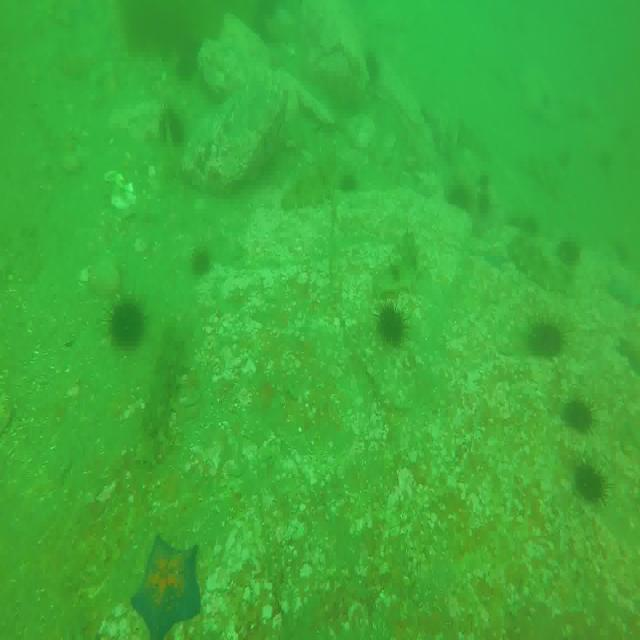echinus: (109, 301, 149, 348), (377, 300, 407, 349), (531, 319, 566, 356), (448, 179, 475, 223), (575, 466, 607, 502), (564, 396, 594, 431), (158, 105, 184, 145), (557, 237, 583, 266), (193, 245, 212, 278)
holothurian: (138, 332, 190, 469), (508, 232, 576, 303), (282, 157, 356, 211)
starfish: (129, 538, 202, 640)
